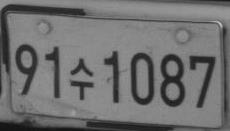0: (130, 51, 154, 105)
1: (101, 49, 127, 103), (43, 45, 65, 98)
7: (188, 55, 216, 108)
8: (159, 52, 186, 107)
9: (14, 43, 38, 95)
수: (70, 57, 93, 100)
